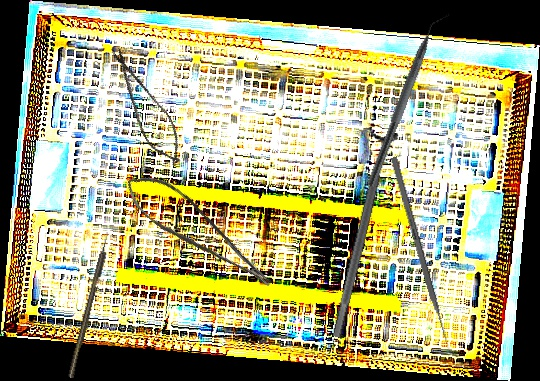Chopper: (366, 6, 452, 193)
Fixation Ring: (320, 126, 400, 341)
Hook Surgical: (66, 231, 113, 379)
Micro Scissor: (117, 158, 277, 312), (99, 40, 193, 174)
Pusher: (390, 156, 452, 351)
